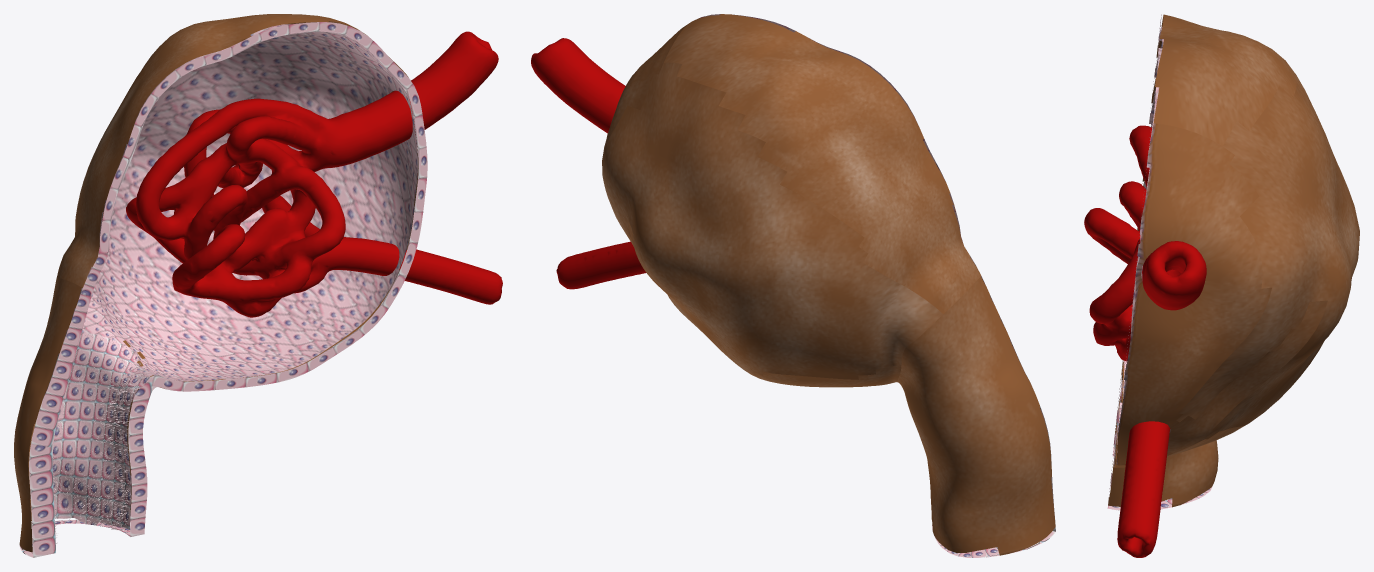
File: glomerulus.glb
3 views of the same model, side by side, from view 1: azimuth 30°, elevation 25°; view 2: azimuth 150°, elevation 25°; view 3: azimuth 270°, elevation 25° (orthographic). The views are drawn at different scales.
Parts seen in each view (by area): view 1: CapsulaBowman, PodocitoLaminaViceral, CapaParietal, Microvellosidades; view 2: CapsulaBowman, PodocitoLaminaViceral, CapaParietal; view 3: CapsulaBowman, PodocitoLaminaViceral, CapaParietal.
Boxes of the visible parts, x1,y1,x2,y2 form: CapsulaBowman: [14, 14, 418, 552]; PodocitoLaminaViceral: [126, 31, 502, 317]; CapaParietal: [19, 22, 427, 557]; Microvellosidades: [52, 332, 149, 543]; CapsulaBowman: [602, 14, 1055, 555]; PodocitoLaminaViceral: [531, 38, 646, 289]; CapaParietal: [694, 14, 1055, 557]; CapsulaBowman: [1108, 14, 1359, 507]; PodocitoLaminaViceral: [1084, 125, 1206, 557]; CapaParietal: [1107, 14, 1212, 510].
Bounding box in the file's own units: 5.55 × 5.01 × 2.24.
5 materials, 3 textured.
